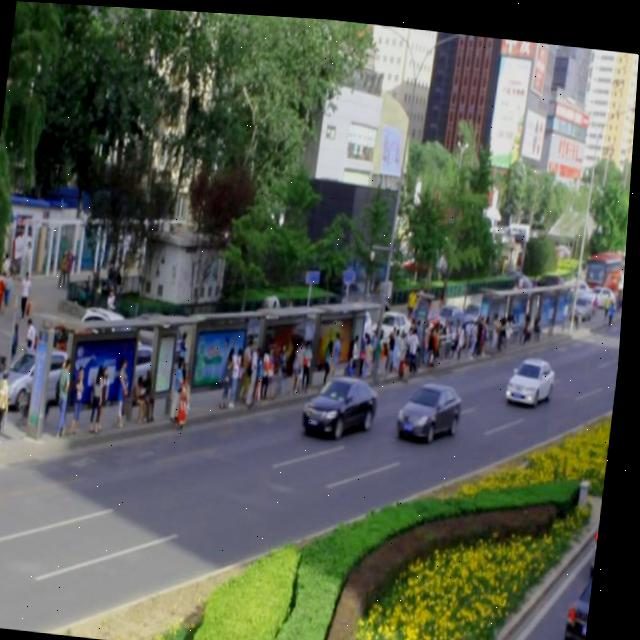car: (305, 368, 383, 438), (400, 375, 465, 440), (510, 350, 557, 401)
